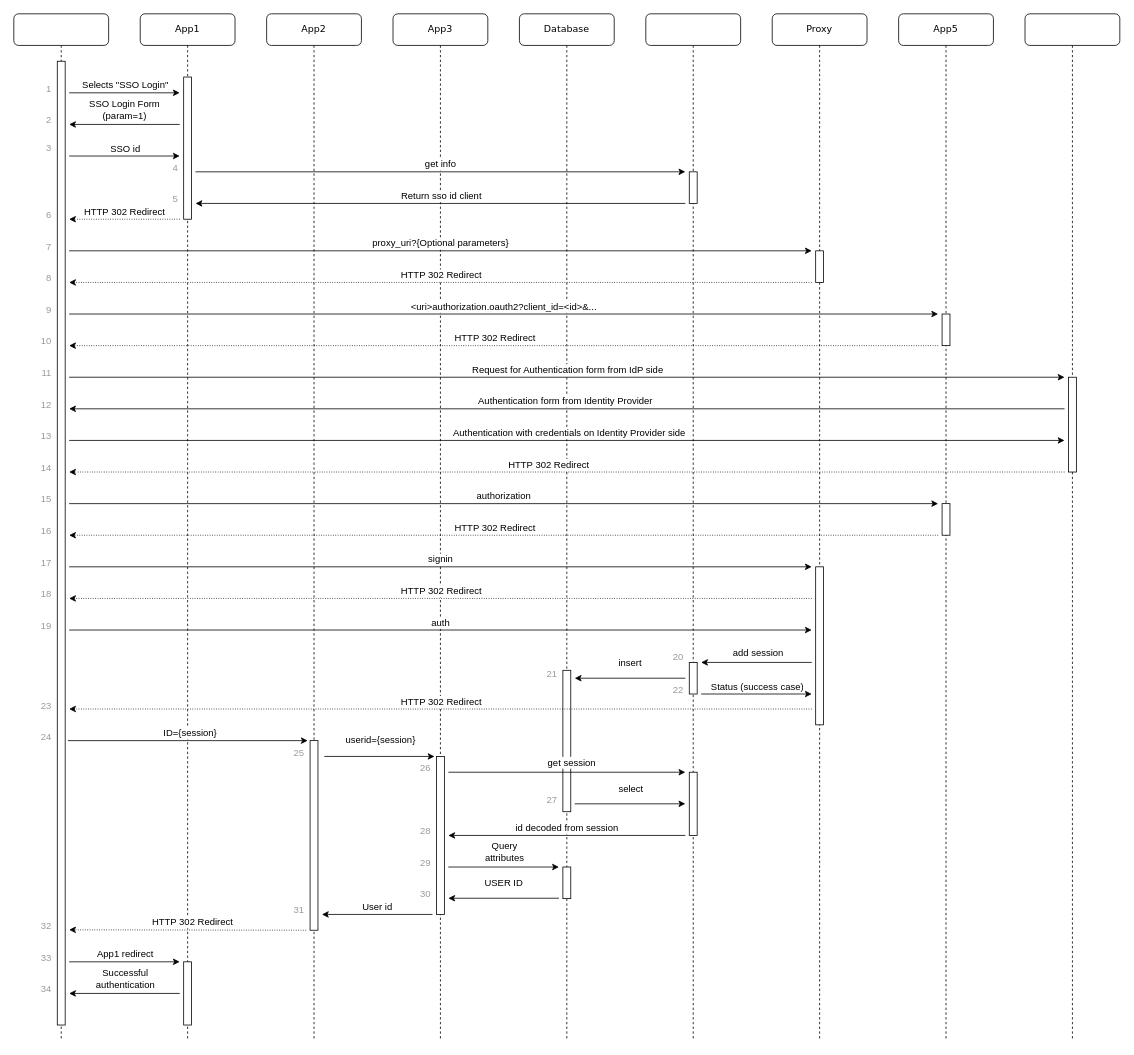
This 1134x1055 diagram has some shape labels left out. The box of each missing label's shape, as (x1, y1, x2, y2) in pixels:
App4: (645, 13, 741, 1041)
Customer: (13, 13, 109, 1041)
IdP: (1024, 13, 1120, 1041)
